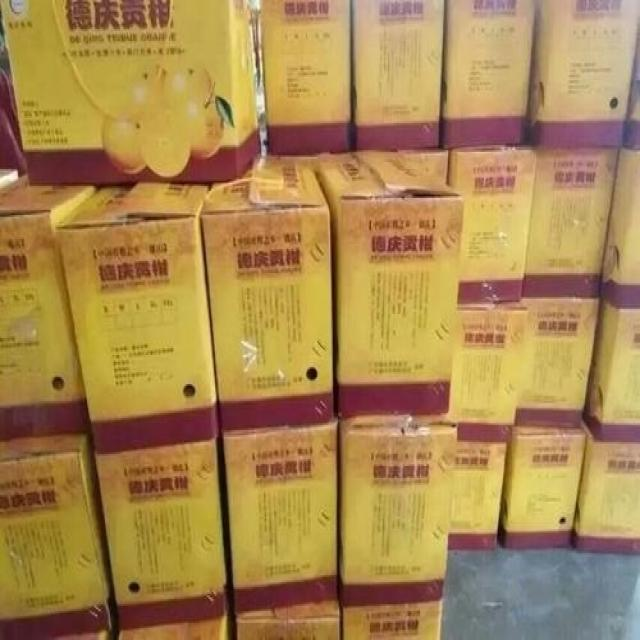box: (55, 183, 220, 454), (316, 152, 463, 420), (201, 157, 335, 433), (93, 437, 233, 631), (221, 418, 338, 614), (338, 415, 457, 606), (524, 0, 640, 147), (44, 433, 116, 637), (524, 147, 620, 299), (440, 0, 536, 150), (349, 2, 445, 150), (260, 0, 351, 155), (447, 148, 536, 305), (44, 186, 100, 435), (513, 297, 599, 430), (499, 427, 586, 550), (445, 302, 527, 428), (572, 418, 640, 553), (584, 294, 640, 442), (447, 425, 511, 553), (599, 148, 639, 309), (234, 601, 340, 638), (340, 602, 443, 640), (623, 29, 640, 148), (396, 150, 449, 184)
